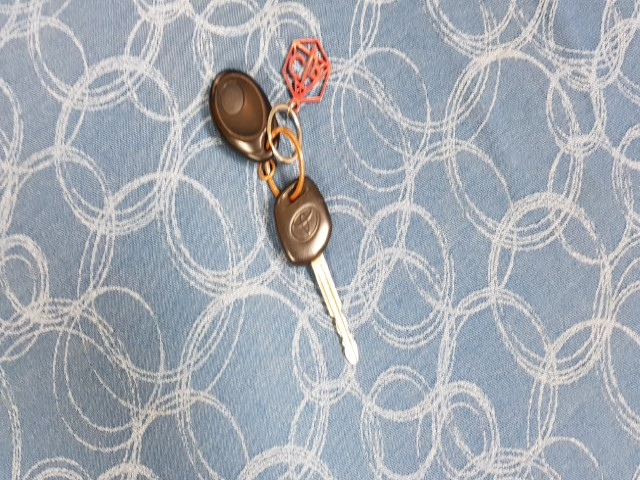key: (272, 174, 361, 366)
